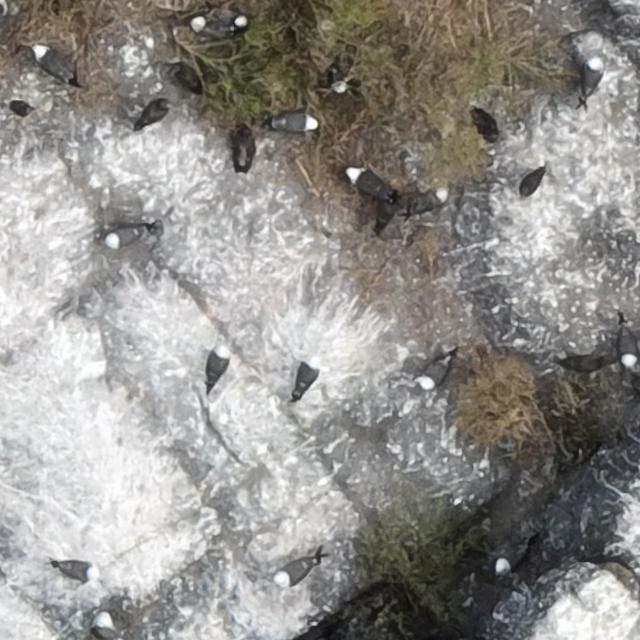umineko: (34, 43, 79, 87), (344, 167, 394, 200), (186, 8, 246, 34), (407, 184, 451, 219), (296, 354, 322, 401), (422, 356, 451, 386), (56, 562, 98, 582), (276, 112, 317, 132), (276, 562, 310, 585), (582, 57, 602, 96), (618, 327, 638, 365), (208, 348, 228, 386), (491, 550, 516, 580), (106, 228, 141, 246), (518, 172, 542, 198), (95, 616, 113, 636)
